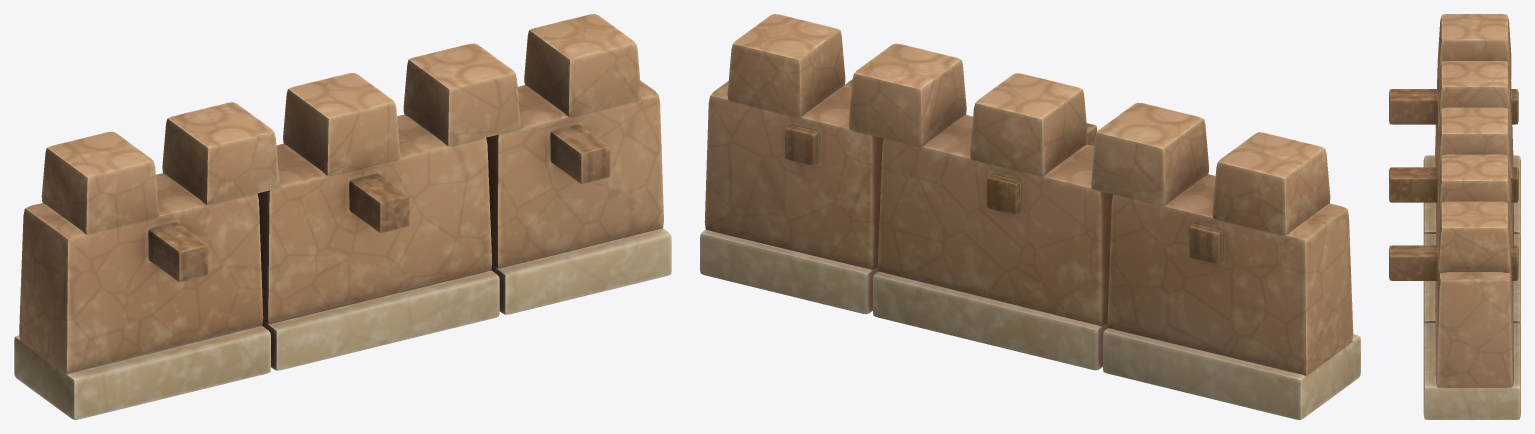
Rendered from Desert_Muret.fbx.
3 views of the same model, side by side, from view 1: azimuth 30°, elevation 25°; view 2: azimuth 150°, elevation 25°; view 3: azimuth 270°, elevation 25° (orthographic). The views are drawn at different scales.
Parts seen in each view (by area): view 1: Desert_Muret; view 2: Desert_Muret; view 3: Desert_Muret.
Boxes of the visible parts, left/top/right/bottom form: Desert_Muret: left=14, top=14, right=671, bottom=419; Desert_Muret: left=700, top=14, right=1360, bottom=419; Desert_Muret: left=1389, top=14, right=1520, bottom=419.
Size of the model in its own units: 1196 by 440 by 285.
Materials: 1 (1 with a texture image).
